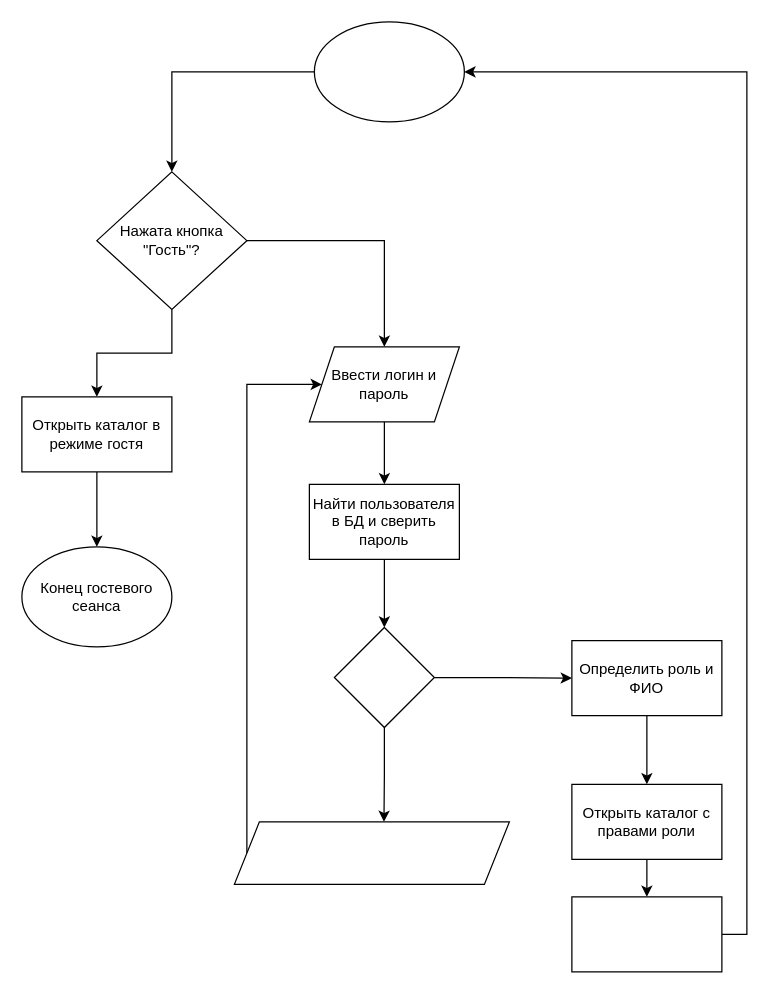
Image size: 779x994. Some labels were removed from this diagram. The box of each missing label's shape, as (x1, y1, x2, y2) in pixels:
Данные верны?: (333, 626, 434, 728)
Команда "Выйти": (571, 896, 722, 972)
Окна входа: (313, 21, 464, 122)
Сообщения: неверный логин или пароль: (233, 821, 509, 884)
